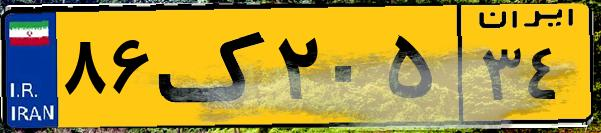0: (330, 28, 385, 110)
2: (270, 28, 330, 110)
3: (475, 38, 525, 113)
4: (525, 38, 570, 115)
5: (385, 28, 445, 110)
6: (110, 28, 158, 98)
8: (57, 26, 110, 100)
ک: (158, 12, 270, 120)
